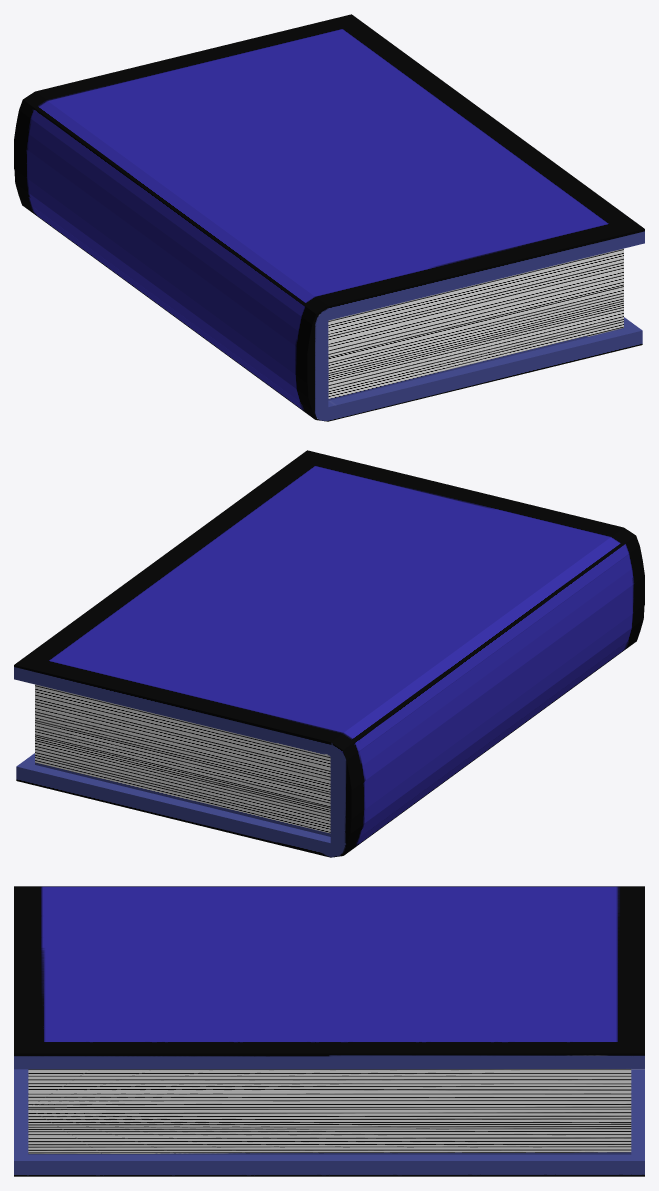
File: hint_book.fbx
3 views of the same model, one above another, from view 1: azimuth 30°, elevation 25°; view 2: azimuth 150°, elevation 25°; view 3: azimuth 270°, elevation 25° (orthographic). The views are drawn at different scales.
Visible parts, largest first — view 1: Cube; view 2: Cube; view 3: Cube.
Part boxes in pixels (x1,y1,x2,y2): Cube: [14, 14, 644, 421]; Cube: [14, 450, 644, 857]; Cube: [14, 886, 644, 1176].
Bounding box in the file's own units: 30.61 × 10 × 46.04.
